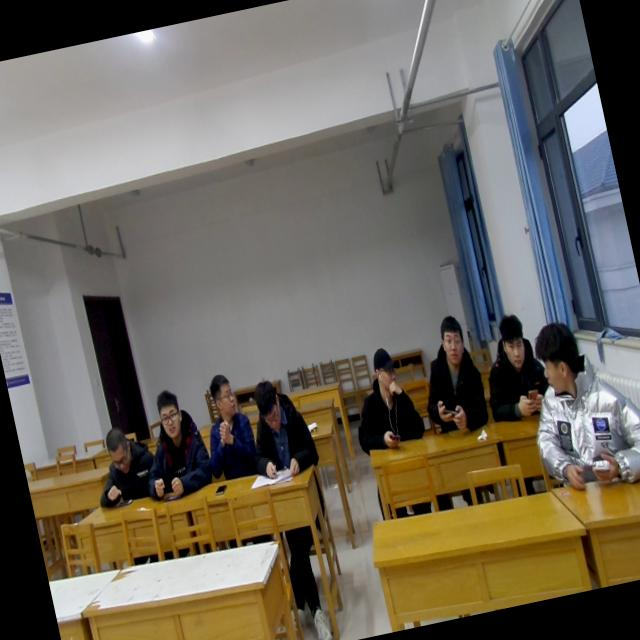bow: (84, 418, 164, 510)
down: (246, 370, 288, 430), (98, 419, 138, 478)
lookup: (492, 306, 534, 372), (146, 382, 186, 446), (430, 308, 470, 368), (430, 388, 474, 434)
sit: (511, 305, 640, 502), (128, 382, 218, 506), (408, 310, 493, 440), (338, 339, 429, 458), (473, 304, 557, 425), (238, 368, 323, 480), (190, 368, 263, 484)
